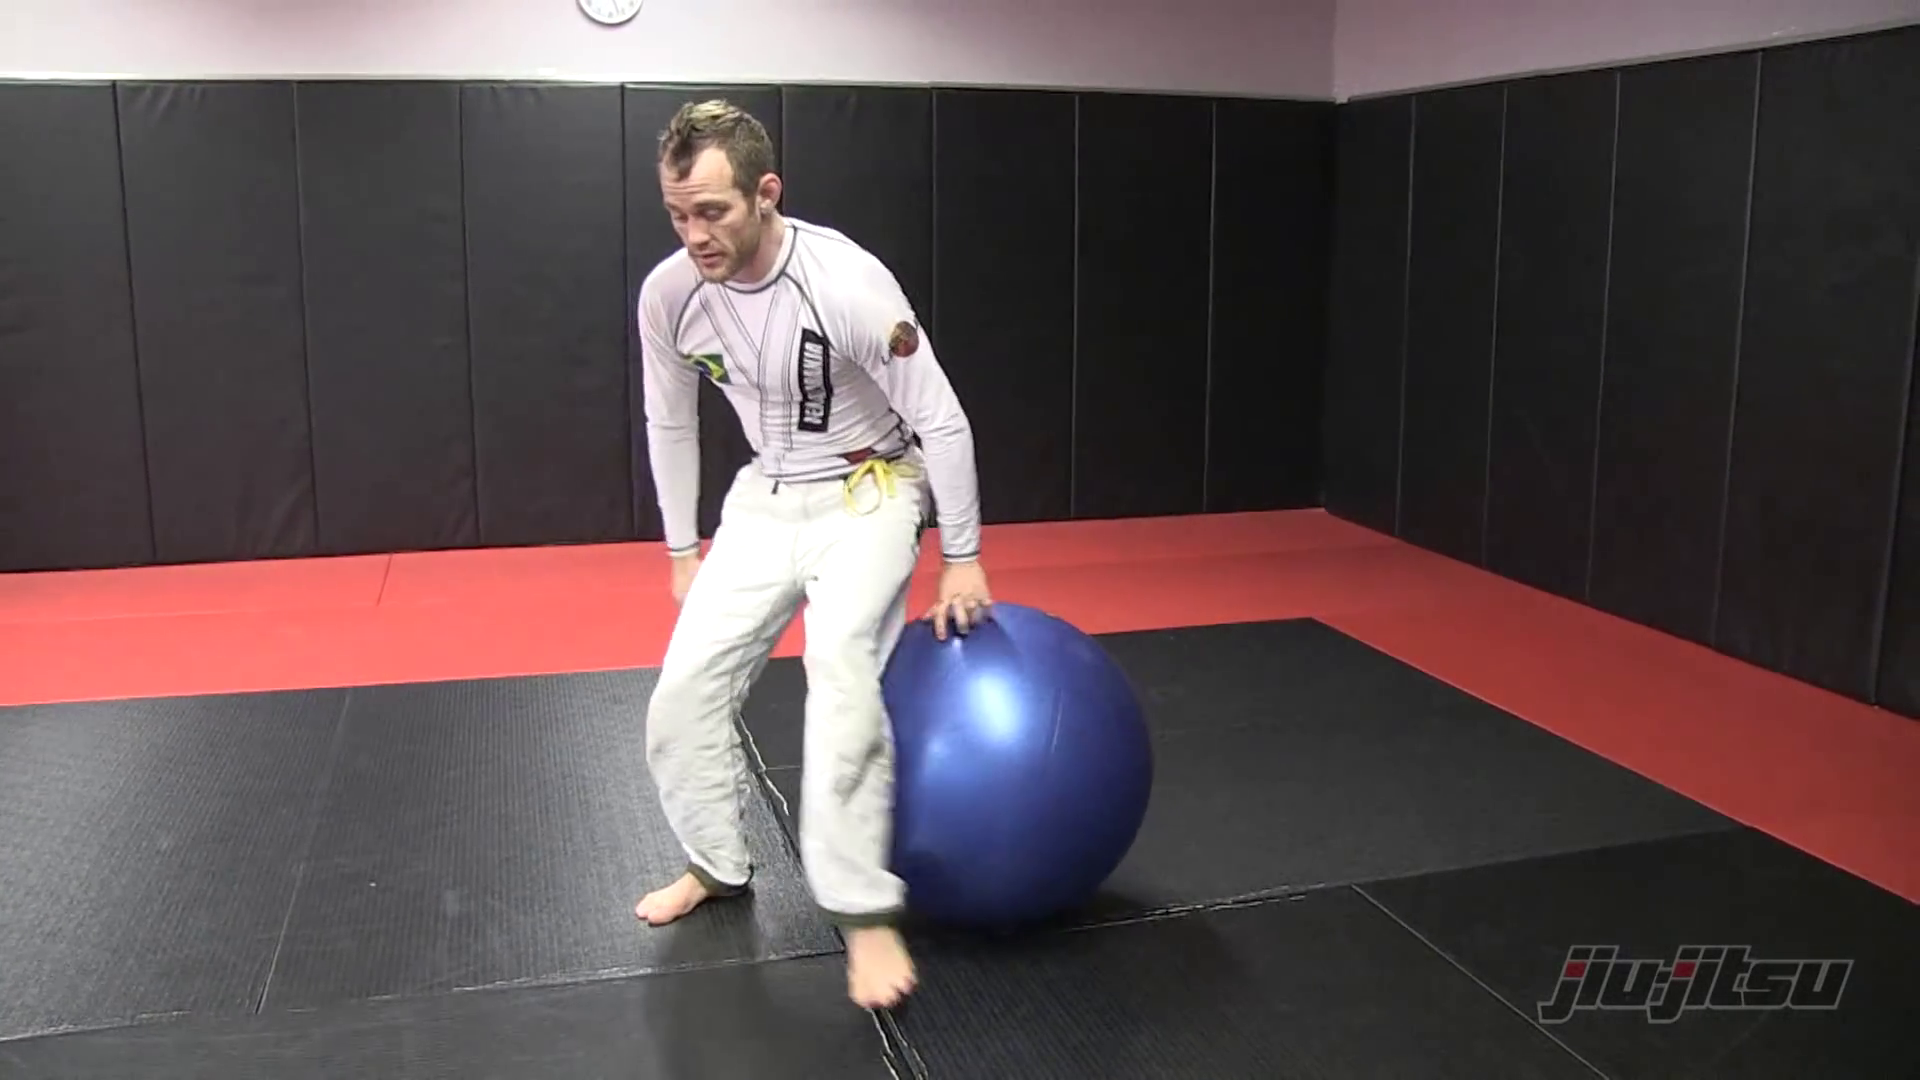yogaball: (811, 574, 1192, 957)
